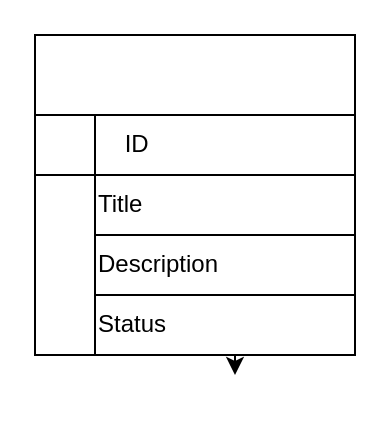
Some shapes in this 390 by 426 pixel diagram are drawn without their labels. Each missing label, with the box of its shape:
PK: (33, 113, 95, 175)
Tasks: (33, 33, 355, 115)
